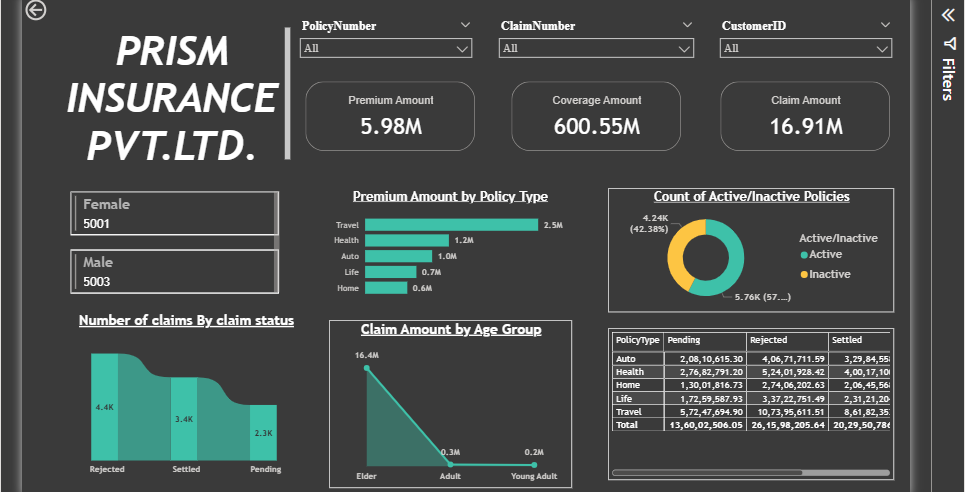

What the dashboard file says about the page in this screenshot:
{"tool":"powerbi","page":{"name":"Power BI  Insurance project","canvas":[1280,720],"ordinal":0},"visuals":[{"type":"slicer","fields":{"Values":["InsuranceData (1).PolicyNumber"]},"box":[390.2,28.8,267.8,76.3],"z":0},{"type":"slicer","fields":{"Values":["InsuranceData (1).ClaimNumber"]},"box":[676.8,28.8,301,76.3],"z":1000},{"type":"slicer","fields":{"Values":["InsuranceData (1).CustomerID"]},"box":[995,28.8,267.8,76.3],"z":2000},{"type":"textbox","box":[50.4,40.3,341.3,207.4],"z":3000},{"type":"cardVisual","fields":{"Data":["Sum(InsuranceData (1).PremiumAmount)"]},"box":[403.2,118.1,254.9,110.9],"z":4000},{"type":"cardVisual","fields":{"Data":["Sum(InsuranceData (1).CoverageAmount)"]},"box":[699.8,118.1,254.9,110.9],"z":5000},{"type":"cardVisual","fields":{"Data":["Sum(InsuranceData (1).ClaimAmount)"]},"box":[1000.8,118.1,254.9,110.9],"z":6000},{"type":"multiRowCard","fields":{"Values":["InsuranceData (1).Gender","CountNonNull(InsuranceData (1).Gender)"]},"box":[64.8,276.5,311,167],"z":7000},{"type":"actionButton","box":[0,0,100,40],"z":8000},{"type":"ribbonChart","title":"Number of claims By claim status","fields":{"Category":["InsuranceData (1).ClaimStatus"],"Y":["CountNonNull(InsuranceData (1).ClaimStatus)"]},"box":[49,455,375.8,241.9],"z":9000},{"type":"barChart","title":"Premium Amount by Policy Type","fields":{"Category":["InsuranceData (1).PolicyType"],"Y":["Sum(InsuranceData (1).PremiumAmount)"]},"box":[442.1,276.5,349.9,167],"z":10000},{"type":"lineChart","title":" Claim Amount by Age Group","fields":{"Category":["InsuranceData (1).Age Group"],"Y":["Sum(InsuranceData (1).ClaimAmount)"]},"box":[442.1,466.6,349.9,241.9],"z":11000},{"type":"donutChart","title":"Count of Active/Inactive Policies","fields":{"Category":["InsuranceData (1).Active/Inactive"],"Y":["CountNonNull(InsuranceData (1).Active/Inactive)"]},"box":[843.8,276.5,411.8,178.6],"z":12000},{"type":"pivotTable","fields":{"Rows":["InsuranceData (1).PolicyType"],"Columns":["InsuranceData (1).ClaimStatus"],"Values":["Sum(InsuranceData (1).CoverageAmount)"]},"box":[843.8,478.1,411.8,218.9],"z":13000}]}

Visuals, with their boxes on the page's 1280x720 design canvas (x1, y1, x2, y2). These are canvas units, not pixel positions in the 965x492 screenshot, which may show the page scaled, cropped or inside an application window:
slicer - InsuranceData (1).PolicyNumber: bbox(390, 29, 658, 105)
slicer - InsuranceData (1).ClaimNumber: bbox(677, 29, 978, 105)
slicer - InsuranceData (1).CustomerID: bbox(995, 29, 1263, 105)
textbox: bbox(50, 40, 392, 248)
cardVisual - Sum(InsuranceData (1).PremiumAmount): bbox(403, 118, 658, 229)
cardVisual - Sum(InsuranceData (1).CoverageAmount): bbox(700, 118, 955, 229)
cardVisual - Sum(InsuranceData (1).ClaimAmount): bbox(1001, 118, 1256, 229)
multiRowCard - InsuranceData (1).Gender x CountNonNull(InsuranceData (1).Gender): bbox(65, 276, 376, 444)
actionButton: bbox(0, 0, 100, 40)
"Number of claims By claim status" ribbonChart: bbox(49, 455, 425, 697)
"Premium Amount by Policy Type" barChart: bbox(442, 276, 792, 444)
" Claim Amount by Age Group" lineChart: bbox(442, 467, 792, 708)
"Count of Active/Inactive Policies" donutChart: bbox(844, 276, 1256, 455)
pivotTable - InsuranceData (1).PolicyType x InsuranceData (1).ClaimStatus: bbox(844, 478, 1256, 697)
